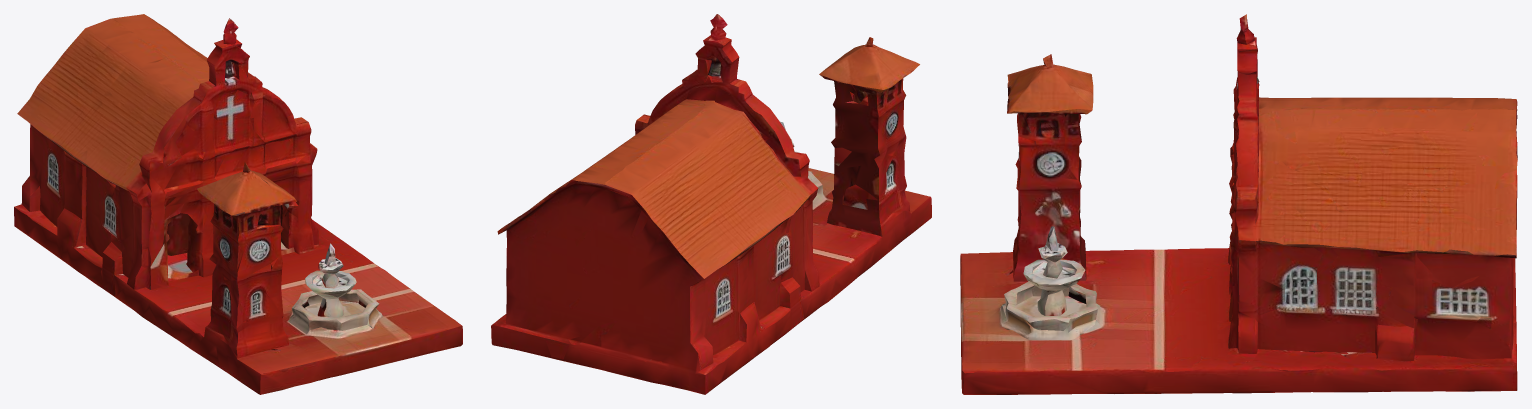
Rendered from christ-church-malacca.glb.
3 views of the same model, side by side, from view 1: azimuth 30°, elevation 25°; view 2: azimuth 150°, elevation 25°; view 3: azimuth 270°, elevation 25° (orthographic). The views are drawn at different scales.
Visible parts, largest first — view 1: logan-textured.obj; view 2: logan-textured.obj; view 3: logan-textured.obj.
Part boxes in pixels (x1,y1,x2,y2): logan-textured.obj: (14, 14, 462, 394); logan-textured.obj: (491, 14, 931, 394); logan-textured.obj: (960, 14, 1517, 394).
Bounding box in the file's own units: 0.5299 × 0.6272 × 1.
Materials: 1 (1 with a texture image).
